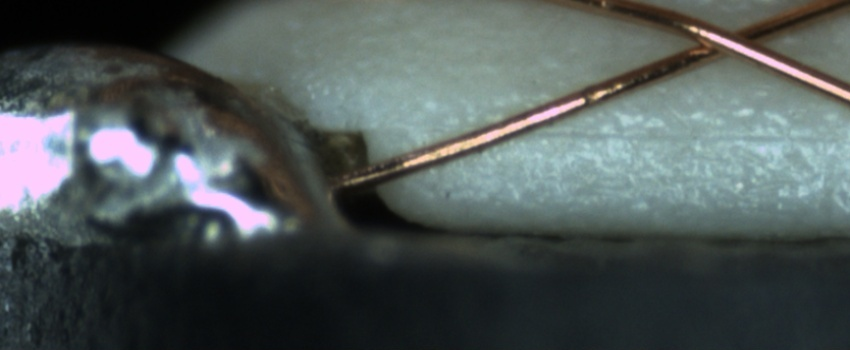CL: (672, 13, 780, 69)
DL: (422, 106, 850, 170)
